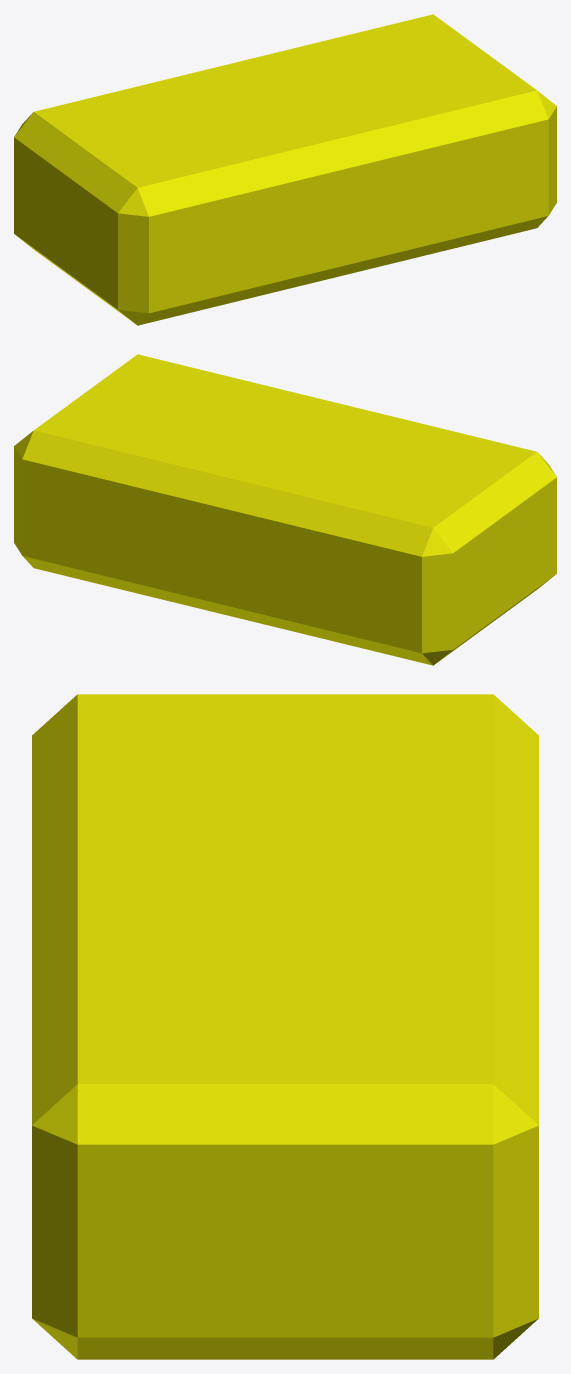
The model's file is YellowStreetDash.fbx.
The picture shows the model from 3 angles, top to bottom: view 1: azimuth 30°, elevation 25°; view 2: azimuth 150°, elevation 25°; view 3: azimuth 270°, elevation 25°; orthographic projection. The views are drawn at different scales.
Parts seen in each view (by area): view 1: pCube87; view 2: pCube87; view 3: pCube87.
Boxes of the visible parts, x1,y1,x2,y2 form: pCube87: (14,14,556,325); pCube87: (14,354,556,665); pCube87: (32,694,538,1359).
Bounding box in the file's own units: 1 × 0.3 × 0.5.
